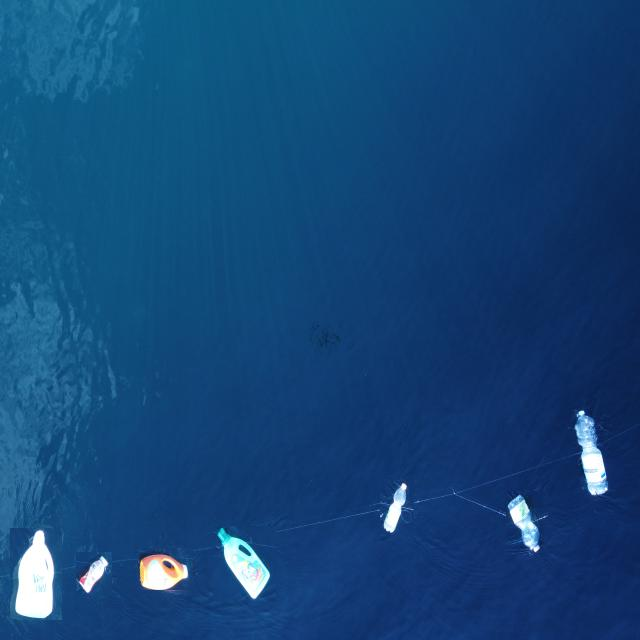bottles: (213, 526, 276, 602), (10, 528, 62, 620), (572, 407, 612, 504), (506, 491, 548, 554), (138, 548, 193, 590), (380, 476, 414, 541), (76, 552, 112, 595)
